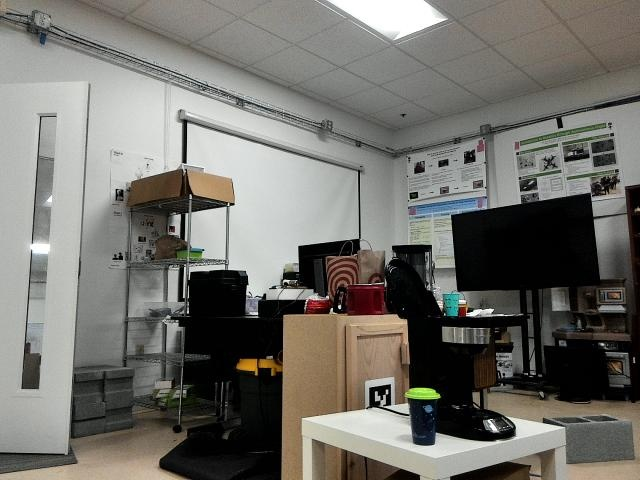coffee_cup: (441, 292, 460, 318)
useless_cup: (406, 385, 441, 447)
